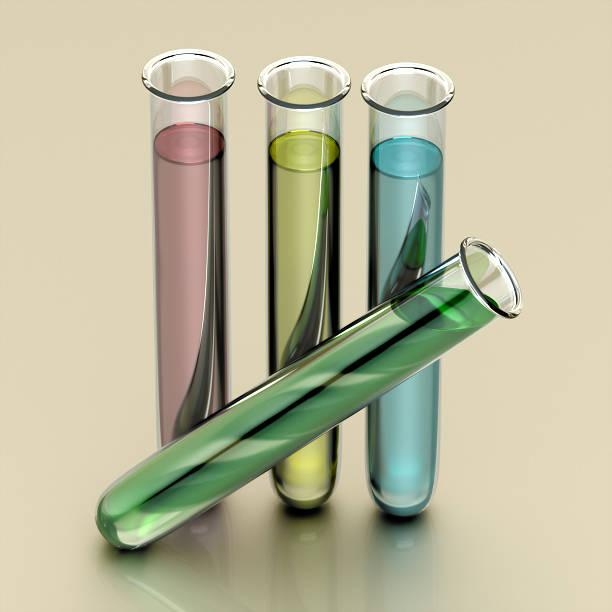Test tube: (134, 50, 223, 401), (247, 46, 337, 322), (359, 46, 453, 251)
